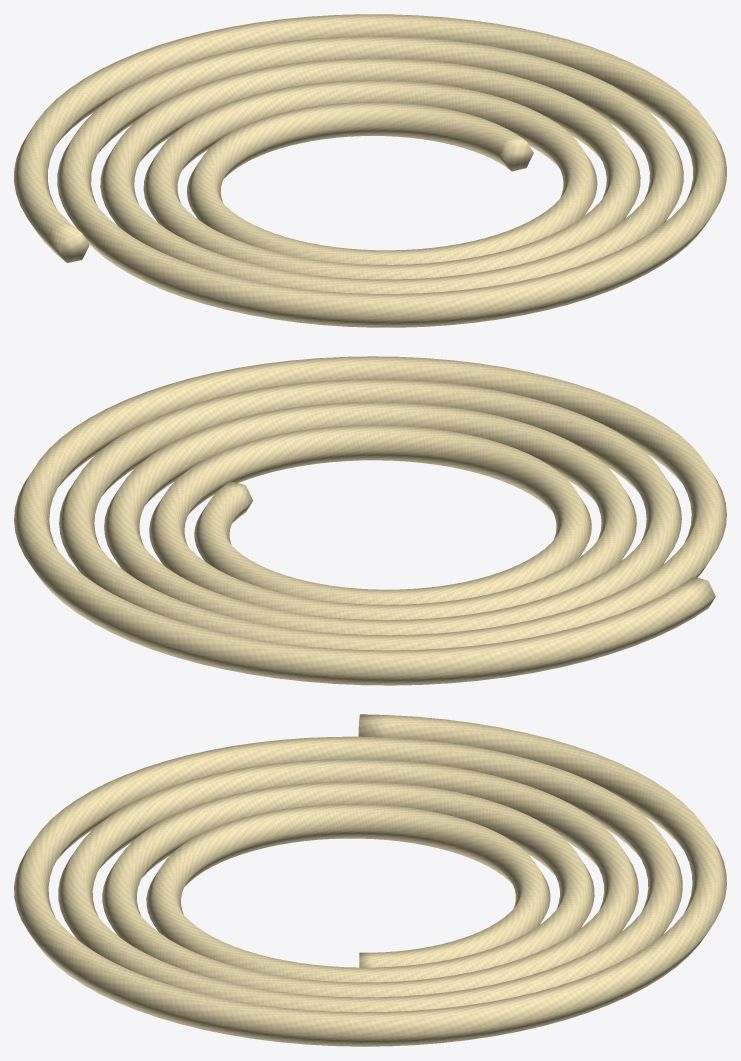
File: mooring_rope.glb
The picture shows the model from 3 angles, top to bottom: view 1: azimuth 30°, elevation 25°; view 2: azimuth 150°, elevation 25°; view 3: azimuth 270°, elevation 25°; orthographic projection. The views are drawn at different scales.
Parts seen in each view (by area): view 1: mooring_rope_Detail; view 2: mooring_rope_Detail; view 3: mooring_rope_Detail.
Boxes of the visible parts, x1,y1,x2,y2 form: mooring_rope_Detail: [14, 14, 726, 327]; mooring_rope_Detail: [14, 356, 726, 685]; mooring_rope_Detail: [14, 714, 726, 1046].
Bounding box in the file's own units: 0.9766 × 0.0648 × 0.9473.
1 material, 1 textured.
